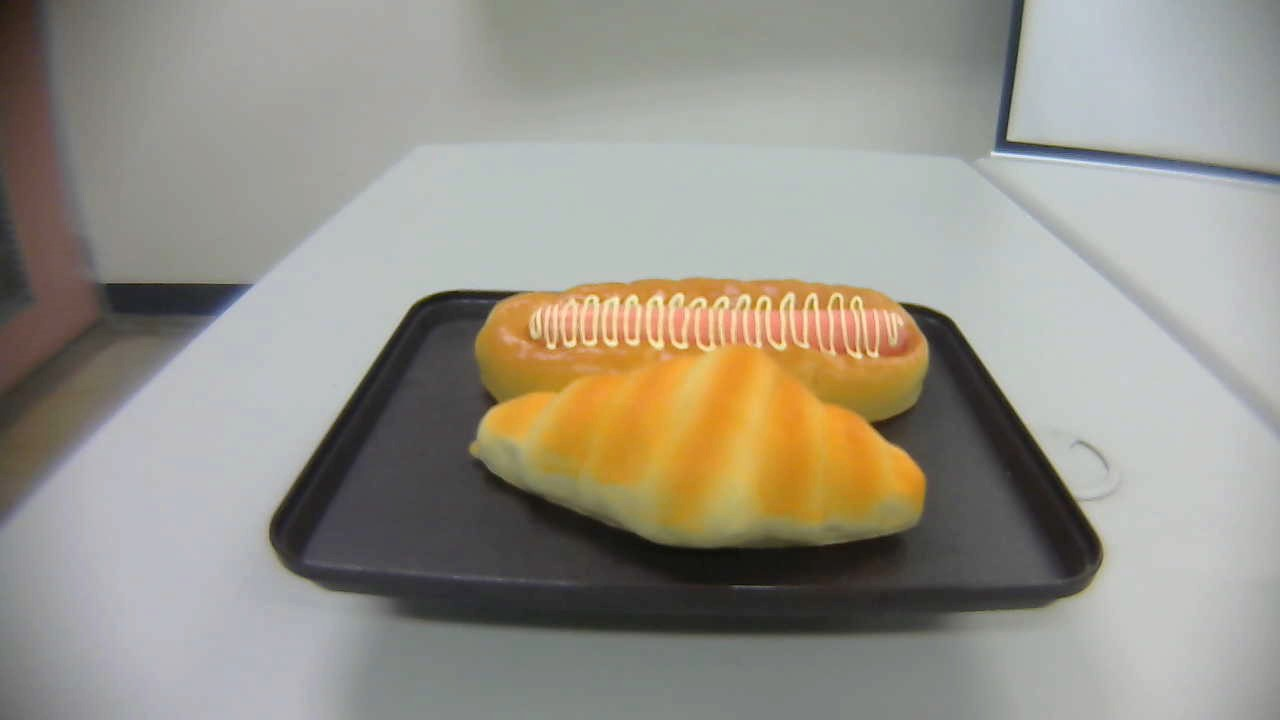croissant: (469, 343, 927, 552)
hot dog: (476, 275, 930, 420)
